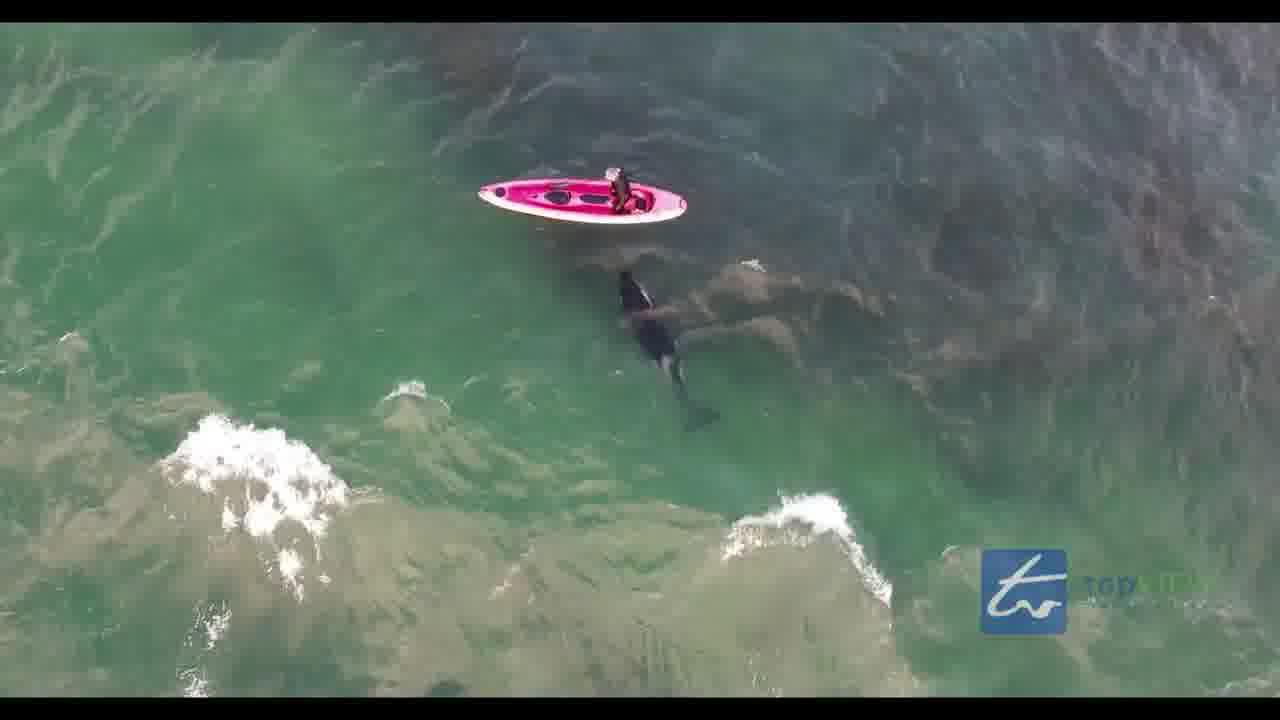human: (602, 171, 635, 216)
